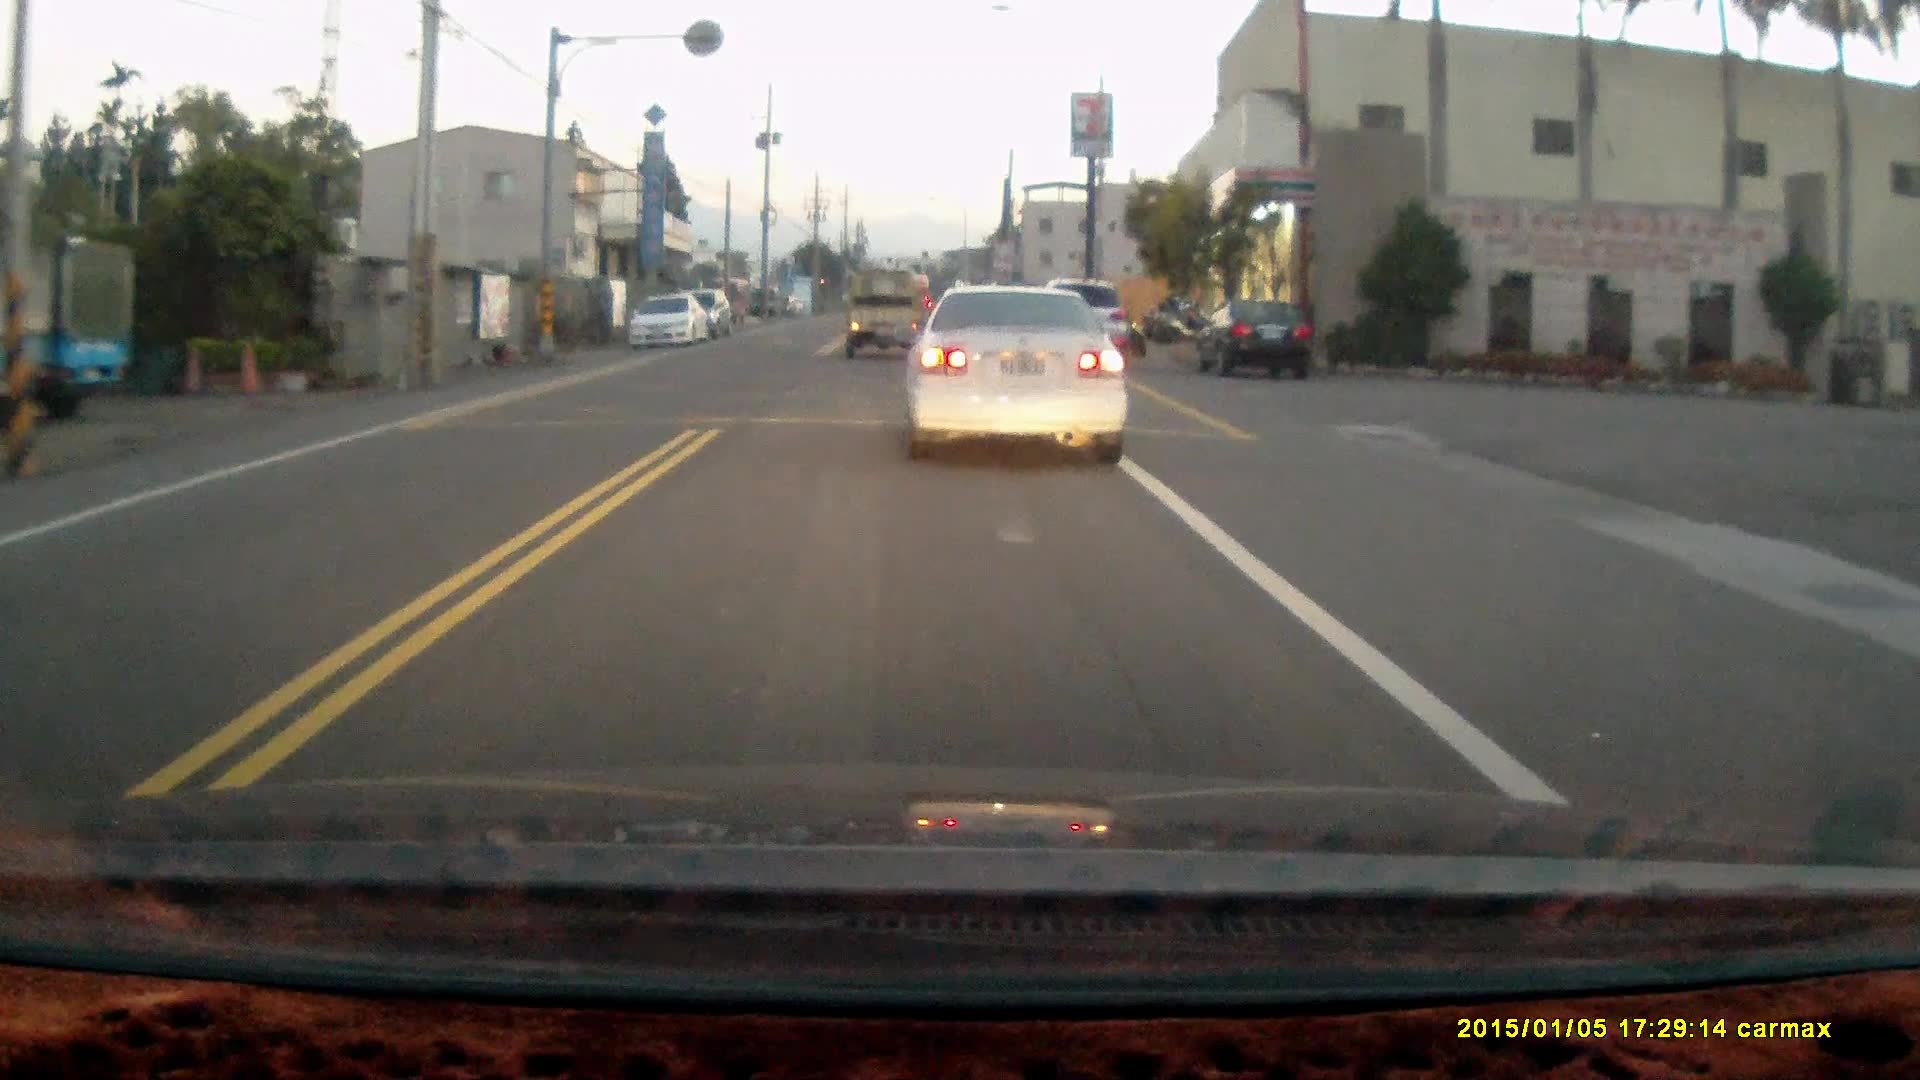vehicle: (913, 278, 1139, 465), (1189, 298, 1315, 378), (840, 266, 935, 357), (622, 287, 713, 349)
